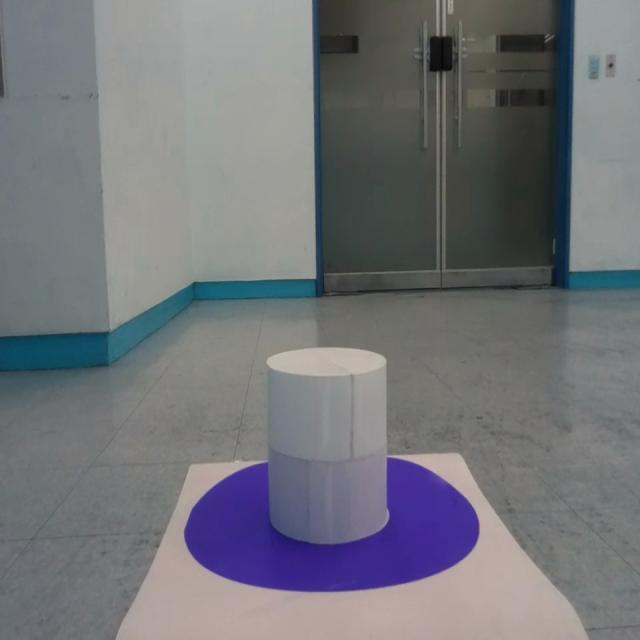cylinder: (266, 344, 388, 546)
